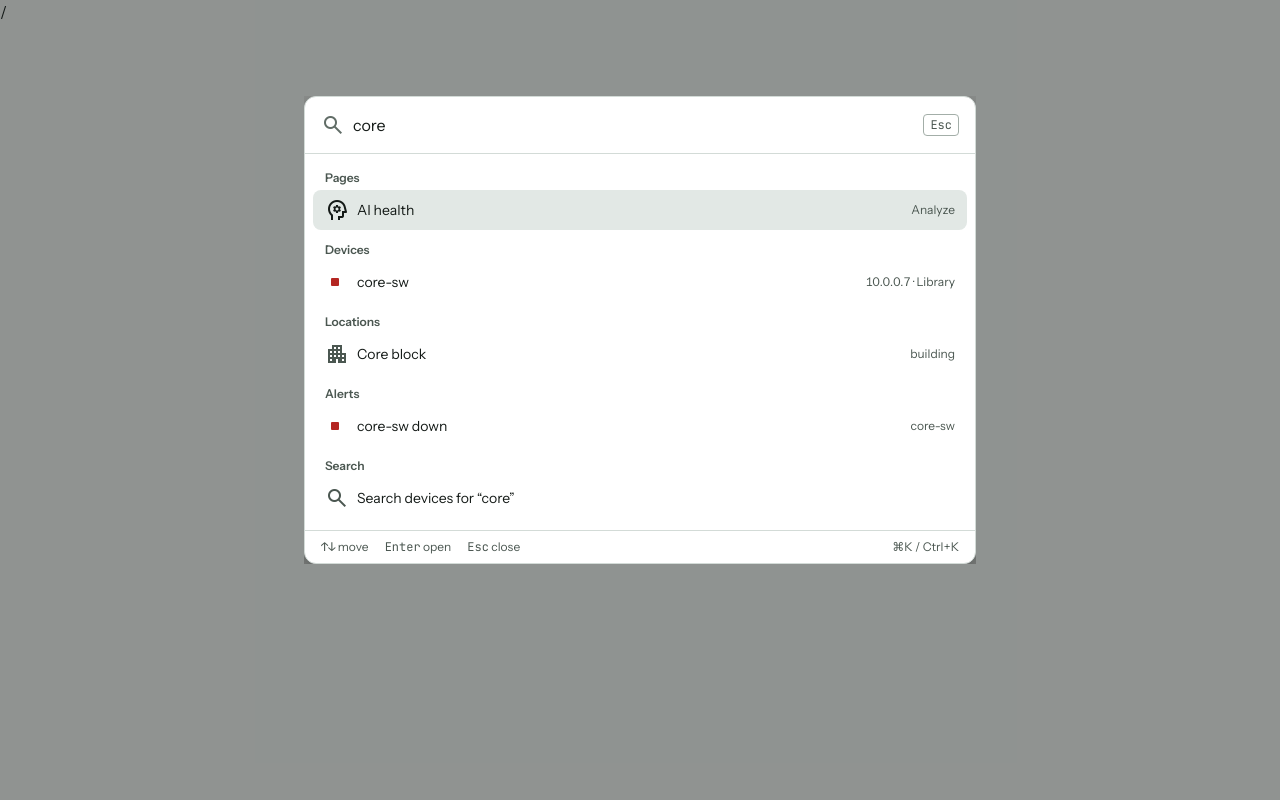
Scenario: CommandPalette › finds devices, locations and alerts through /search
Expected: the element "Locations" shows "Core block", [357, 345, 426, 363]
Expected: the element "Alerts" shows "core-sw down", [357, 417, 447, 435]
// Arrow down to the device (pages/actions matching "core" come first: none here).
Click the option "core-sw 10.0.0.7 · Library": (383, 282) [330, 273, 955, 291]
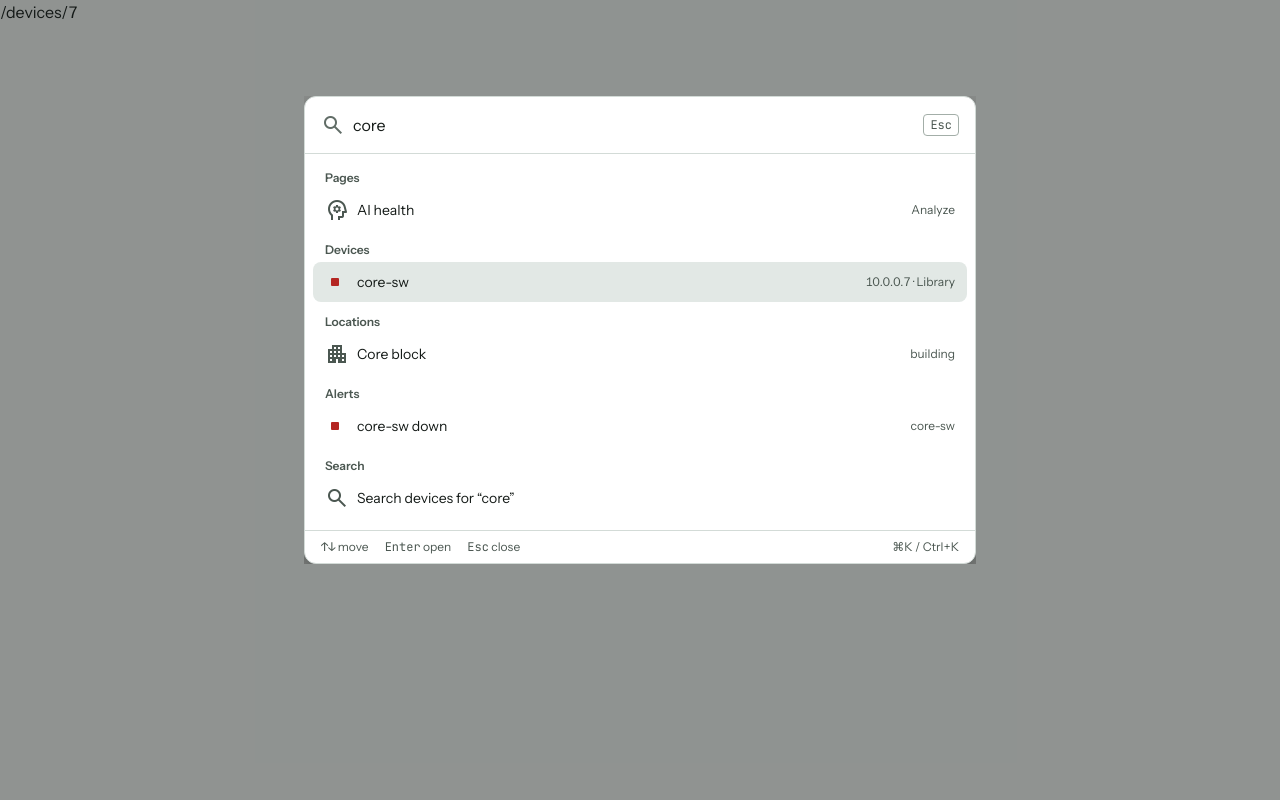
Result: the text with test id "location" reads "/devices/7" at [0, 2, 78, 22]
